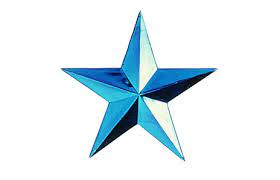star: (57, 4, 224, 167)
